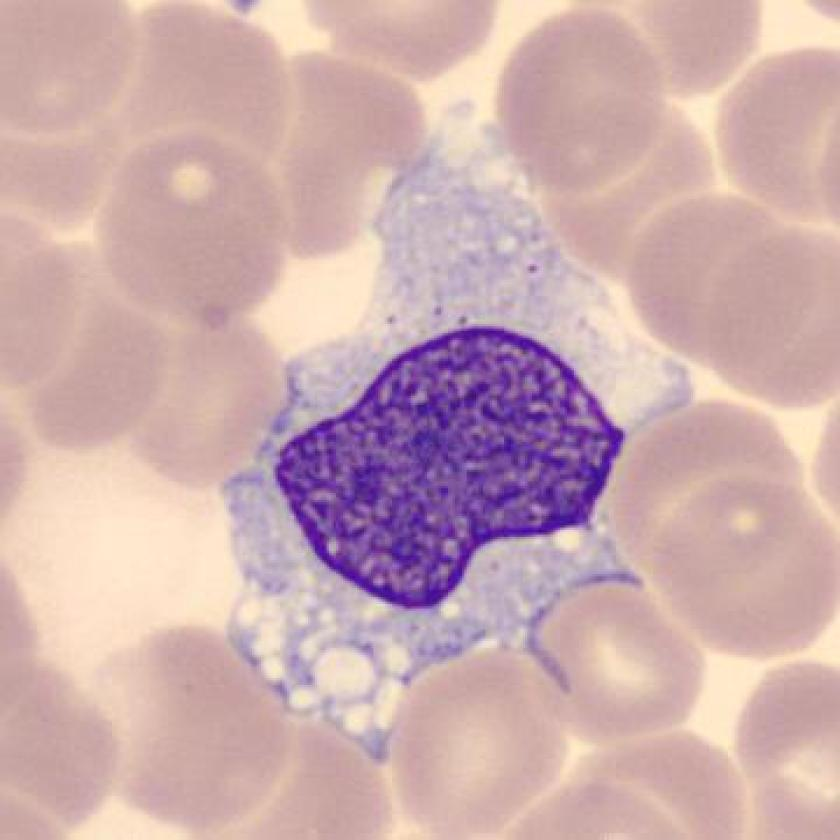monocyte: (199, 85, 708, 756)
